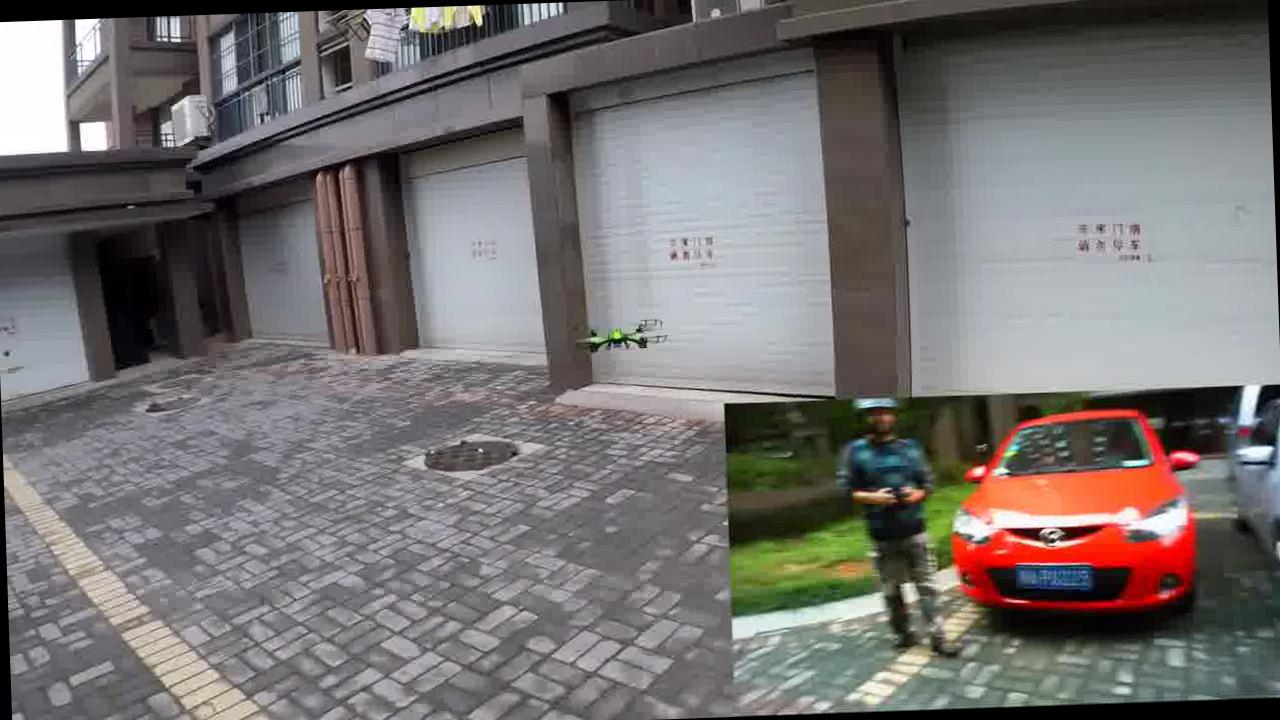drone: (566, 308, 663, 356)
